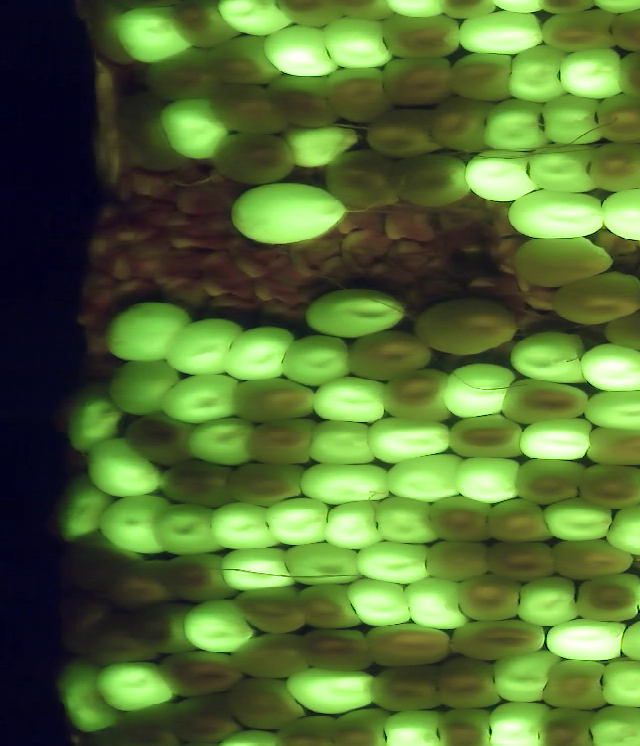fluorescent: (227, 178, 350, 249), (95, 298, 193, 366), (90, 489, 177, 563), (297, 283, 409, 339), (280, 664, 384, 721), (49, 655, 123, 735), (504, 186, 611, 241), (83, 435, 172, 501), (59, 379, 131, 460), (256, 19, 347, 82), (154, 369, 248, 429), (108, 2, 194, 67), (506, 326, 592, 390), (178, 593, 264, 657), (162, 311, 244, 378), (88, 656, 180, 714), (155, 94, 233, 162), (461, 145, 547, 206), (439, 359, 518, 424), (106, 356, 186, 420), (53, 467, 117, 547), (456, 5, 552, 58), (381, 448, 469, 505), (217, 319, 294, 384), (308, 373, 394, 431), (316, 12, 399, 71), (204, 494, 281, 557), (294, 460, 397, 507), (274, 329, 356, 388), (362, 413, 455, 465), (145, 499, 223, 560), (351, 538, 439, 592), (522, 137, 602, 196), (502, 40, 571, 108), (544, 613, 632, 666), (278, 538, 368, 589), (276, 119, 362, 172), (342, 574, 416, 635), (183, 415, 265, 470), (260, 493, 339, 550), (448, 452, 528, 508), (366, 492, 443, 550), (489, 646, 563, 706), (479, 95, 549, 158), (556, 43, 628, 104), (401, 572, 469, 636), (538, 91, 609, 152), (513, 569, 584, 630), (540, 493, 623, 545), (302, 416, 379, 471), (518, 412, 595, 466), (215, 545, 298, 595), (576, 334, 640, 396), (317, 498, 386, 554), (209, 1, 298, 41), (483, 698, 550, 746), (579, 385, 640, 436), (377, 705, 447, 746), (597, 183, 640, 245), (586, 701, 640, 746), (600, 653, 640, 712), (603, 499, 640, 560)
nonfluorescent: (407, 290, 522, 358), (111, 86, 191, 182), (508, 231, 618, 294), (342, 326, 443, 389), (55, 532, 150, 598), (546, 267, 640, 332), (206, 130, 301, 191), (206, 78, 292, 144), (441, 614, 551, 665), (496, 374, 596, 429), (48, 587, 120, 663), (141, 45, 227, 108), (388, 151, 476, 212), (226, 372, 323, 427), (361, 619, 456, 675), (76, 609, 161, 671), (324, 145, 401, 213), (380, 9, 470, 67), (156, 455, 240, 517), (444, 407, 533, 465), (119, 410, 202, 472), (376, 365, 457, 428), (265, 69, 346, 132), (376, 52, 460, 111), (244, 414, 329, 472), (358, 106, 444, 163), (219, 458, 311, 511), (200, 32, 284, 89), (429, 654, 507, 715), (322, 60, 394, 126), (153, 550, 236, 607), (423, 89, 493, 156), (536, 655, 612, 716), (123, 598, 196, 661), (547, 537, 638, 587), (227, 628, 310, 682), (510, 452, 590, 508), (419, 493, 499, 548), (538, 5, 624, 56), (221, 674, 305, 726), (572, 567, 640, 631), (449, 48, 522, 105), (228, 584, 308, 636), (82, 1, 142, 70), (364, 663, 442, 716), (485, 535, 563, 588), (168, 1, 243, 56), (480, 494, 555, 549), (423, 534, 495, 591), (156, 649, 249, 692), (294, 625, 379, 672), (293, 581, 368, 634), (110, 557, 181, 611), (457, 571, 525, 626), (583, 135, 640, 200), (171, 693, 239, 746), (574, 458, 640, 512), (108, 701, 184, 746), (325, 704, 396, 746), (581, 423, 640, 472), (434, 703, 501, 746), (594, 90, 640, 151), (536, 705, 600, 746), (597, 307, 640, 357), (273, 1, 342, 32), (607, 5, 640, 57)
